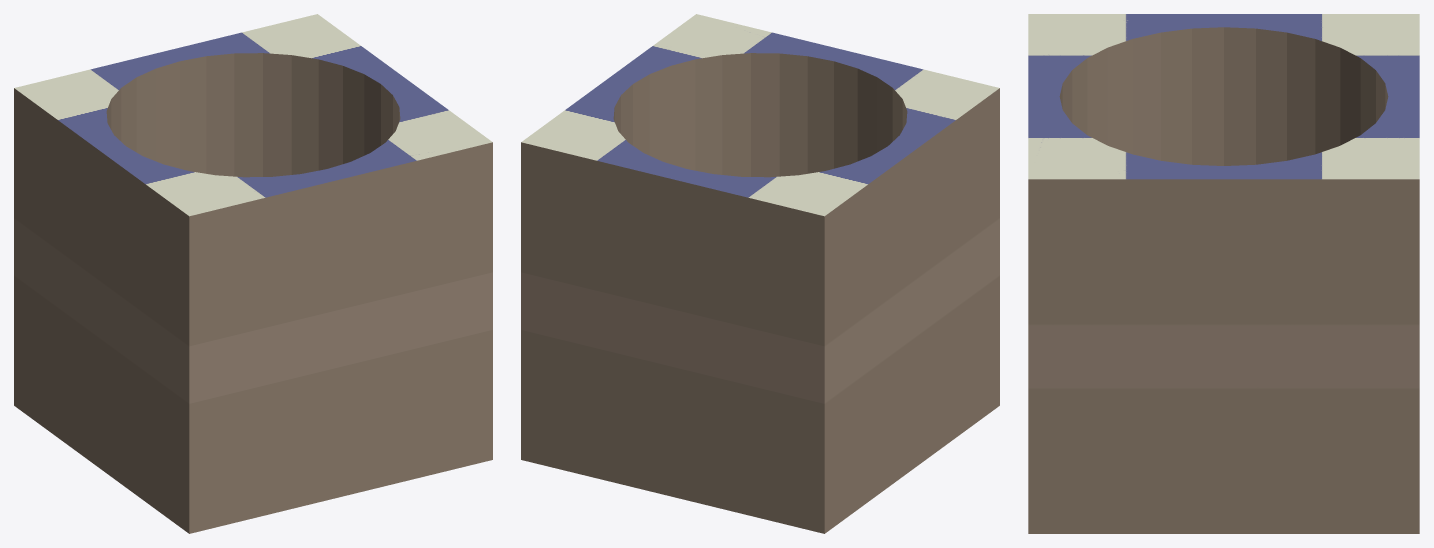
Rendered from SM_Hole.fbx.
3 renders of one model, left to right at view 1: azimuth 30°, elevation 25°; view 2: azimuth 150°, elevation 25°; view 3: azimuth 270°, elevation 25°, orthographic. The views are drawn at different scales.
Visible parts, largest first — view 1: Hole; view 2: Hole; view 3: Hole.
Boxes of the visible parts, bbox=[...] form: Hole: bbox=[14, 14, 492, 533]; Hole: bbox=[521, 14, 999, 533]; Hole: bbox=[1028, 14, 1419, 533].
Bounding box in the file's own units: 200 × 200 × 200.
1 material, 1 textured.
